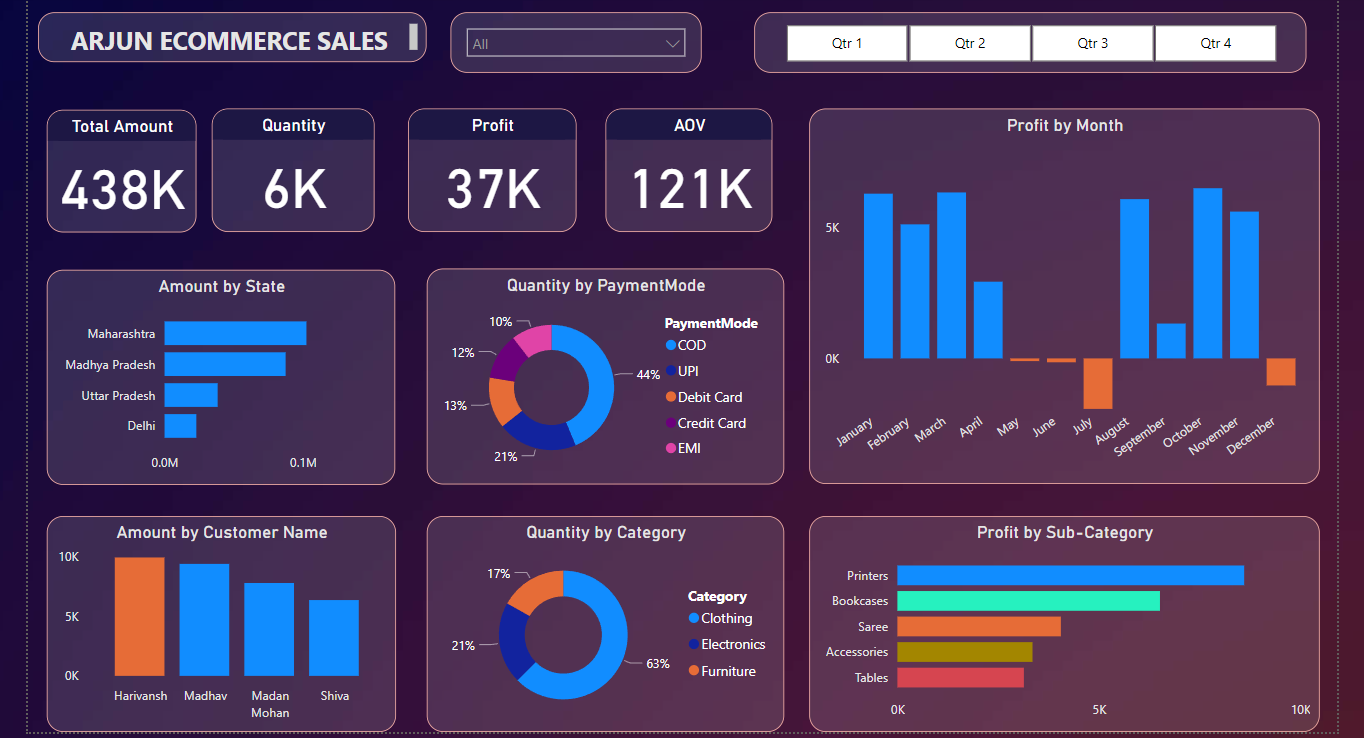

Layout of this report page (visuals, bound fields, positions):
{"tool":"powerbi","page":{"name":"Page 1","canvas":[1280,720],"ordinal":0},"visuals":[{"type":"textbox","box":[9.8,15.9,380.2,48.9],"z":0},{"type":"columnChart","title":"Profit by Month","fields":{"Category":["Orders.Order Date.Variation.Date Hierarchy.Month"],"Y":["Details.Profit"]},"box":[763.7,109.7,499.1,367.4],"z":1000},{"type":"clusteredBarChart","title":"Profit by Sub-Category","fields":{"Category":["Details.Sub-Category"],"Y":["Details.Profit"]},"box":[763.7,508.7,499.1,211.1],"z":2000},{"type":"donutChart","title":"Quantity by Category","fields":{"Category":["Details.Category"],"Y":["Details.Quantity"]},"box":[389.4,508.7,349.6,211.1],"z":3000},{"type":"donutChart","title":"Quantity by PaymentMode","fields":{"Category":["Details.PaymentMode"],"Y":["Details.Quantity"]},"box":[389.4,266,349.6,211.1],"z":4000},{"type":"card","title":"Total Amount","fields":{"Values":["Details.Amount"]},"box":[18.3,111.2,146.7,119.8],"z":5000},{"type":"card","title":"Quantity","fields":{"Values":["Details.Quantity"]},"box":[179.6,109.7,159,120.7],"z":6000},{"type":"card","title":"Profit","fields":{"Values":["Details.Profit"]},"box":[371.6,109.7,164.5,120.7],"z":7000},{"type":"card","title":"AOV","fields":{"Values":["Details.AOV"]},"box":[564.9,109.7,163.2,120.7],"z":8000},{"type":"barChart","title":"Amount by State","fields":{"Category":["Orders.State"],"Y":["Details.Amount"]},"box":[18.3,267.7,341.1,210.3],"z":9000},{"type":"columnChart","title":"Amount by Customer Name","fields":{"Category":["Orders.CustomerName"],"Y":["Details.Amount"]},"box":[17.8,508.7,341.4,211.1],"z":10000},{"type":"slicer","fields":{"Values":["Orders.Order Date.Variation.Date Hierarchy.Quarter"]},"box":[710.2,16.5,540.2,59],"z":11000},{"type":"slicer","fields":{"Values":["Orders.State"]},"box":[412.7,16.5,245.4,59],"z":12000}]}

Visuals, with their boxes on the page's 1280x720 design canvas (x1, y1, x2, y2). These are canvas units, not pixel positions in the 1364x738 screenshot, which may show the page scaled, cropped or inside an application window:
textbox: BBox(10, 16, 390, 65)
"Profit by Month" columnChart: BBox(764, 110, 1263, 477)
"Profit by Sub-Category" clusteredBarChart: BBox(764, 509, 1263, 720)
"Quantity by Category" donutChart: BBox(389, 509, 739, 720)
"Quantity by PaymentMode" donutChart: BBox(389, 266, 739, 477)
"Total Amount" card: BBox(18, 111, 165, 231)
"Quantity" card: BBox(180, 110, 339, 230)
"Profit" card: BBox(372, 110, 536, 230)
"AOV" card: BBox(565, 110, 728, 230)
"Amount by State" barChart: BBox(18, 268, 359, 478)
"Amount by Customer Name" columnChart: BBox(18, 509, 359, 720)
slicer - Orders.Order Date.Variation.Date Hierarchy.Quarter: BBox(710, 16, 1250, 76)
slicer - Orders.State: BBox(413, 16, 658, 76)
